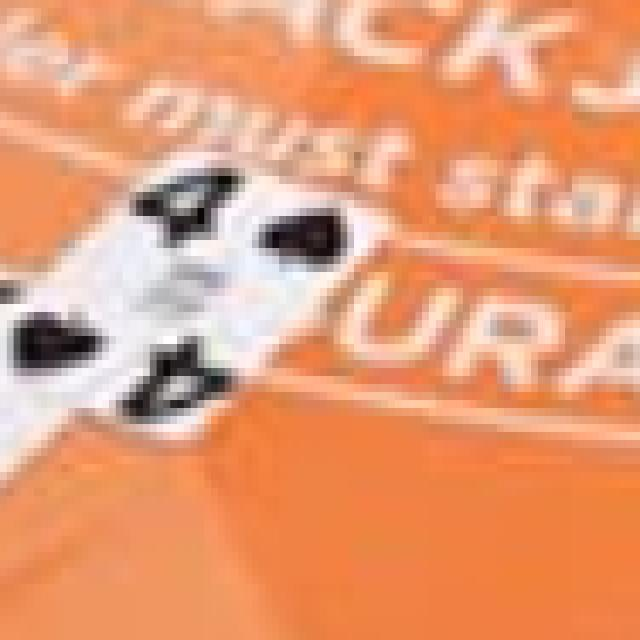Card-4: (0, 135, 394, 446)
